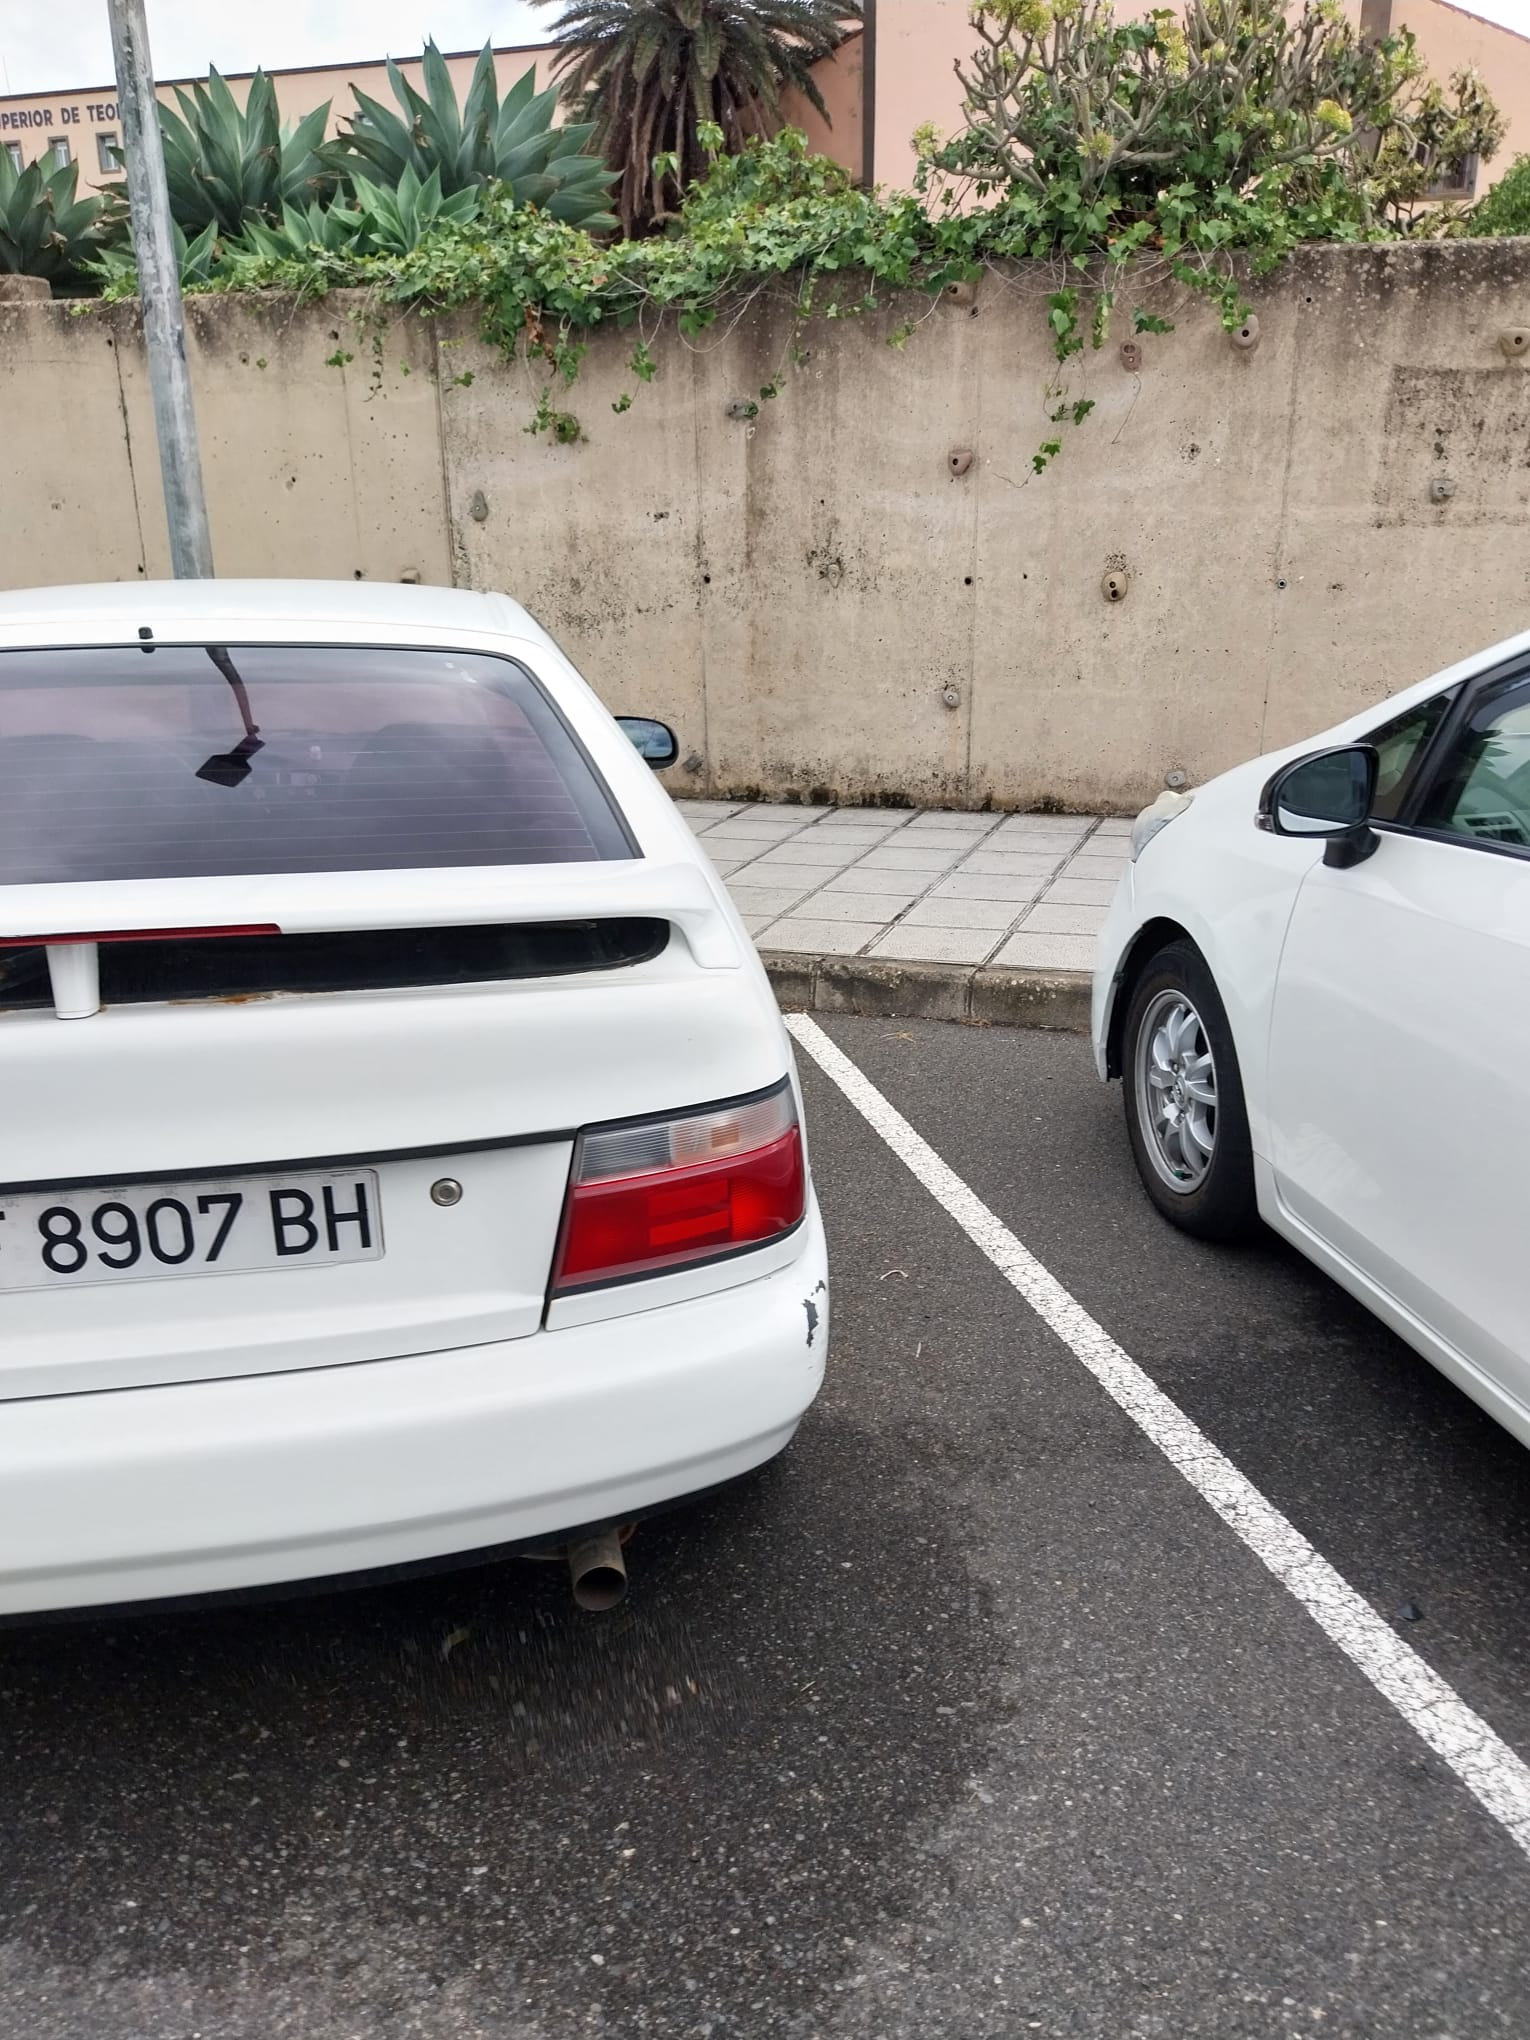License-Plate: (0, 1171, 381, 1290)
